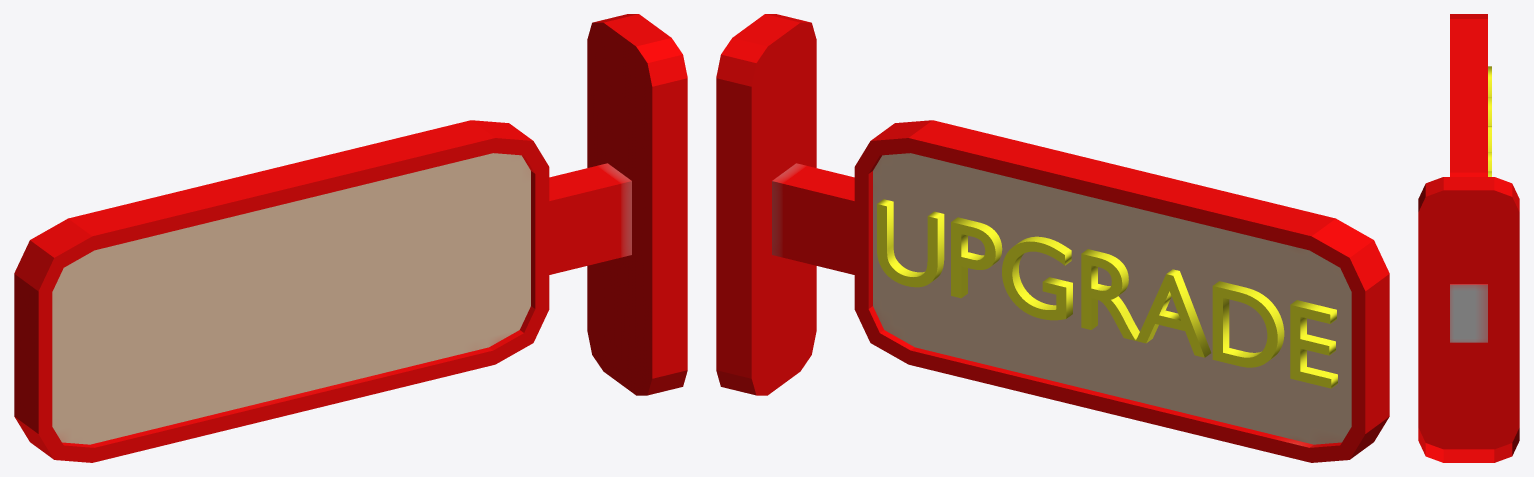
The model's file is signeboard_upgrade.fbx.
The picture shows the model from 3 angles, left to right: view 1: azimuth 30°, elevation 25°; view 2: azimuth 150°, elevation 25°; view 3: azimuth 270°, elevation 25°; orthographic projection. The views are drawn at different scales.
Parts seen in each view (by area): view 1: signeboard_upgrade; view 2: signeboard_upgrade; view 3: signeboard_upgrade.
Boxes of the visible parts, <box> form: signeboard_upgrade: <box>14,14,687,462</box>; signeboard_upgrade: <box>716,14,1389,462</box>; signeboard_upgrade: <box>1418,14,1519,462</box>.
Size of the model in its own units: 554 by 293 by 98.87.
